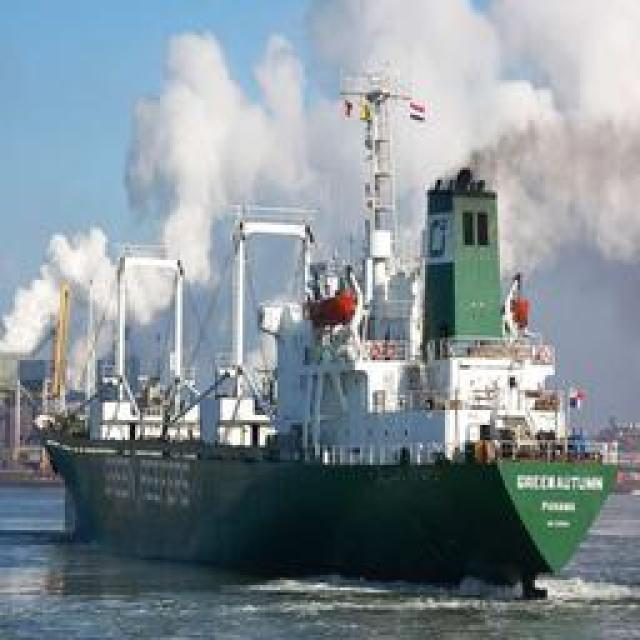ship2: (33, 76, 620, 601)
